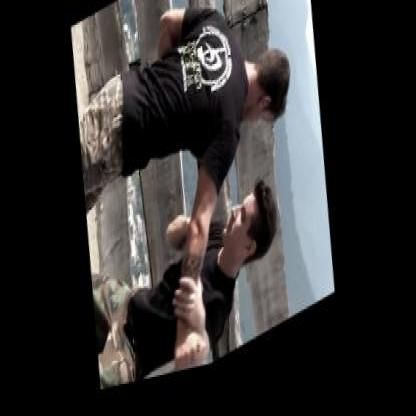knife: (142, 340, 210, 386)
